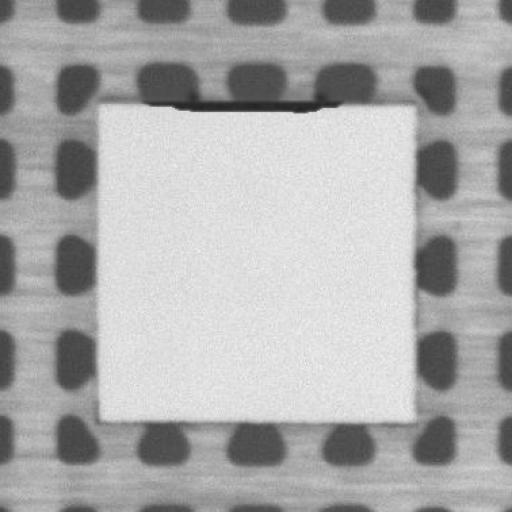DIE_BROKEN: (148, 93, 341, 119)
